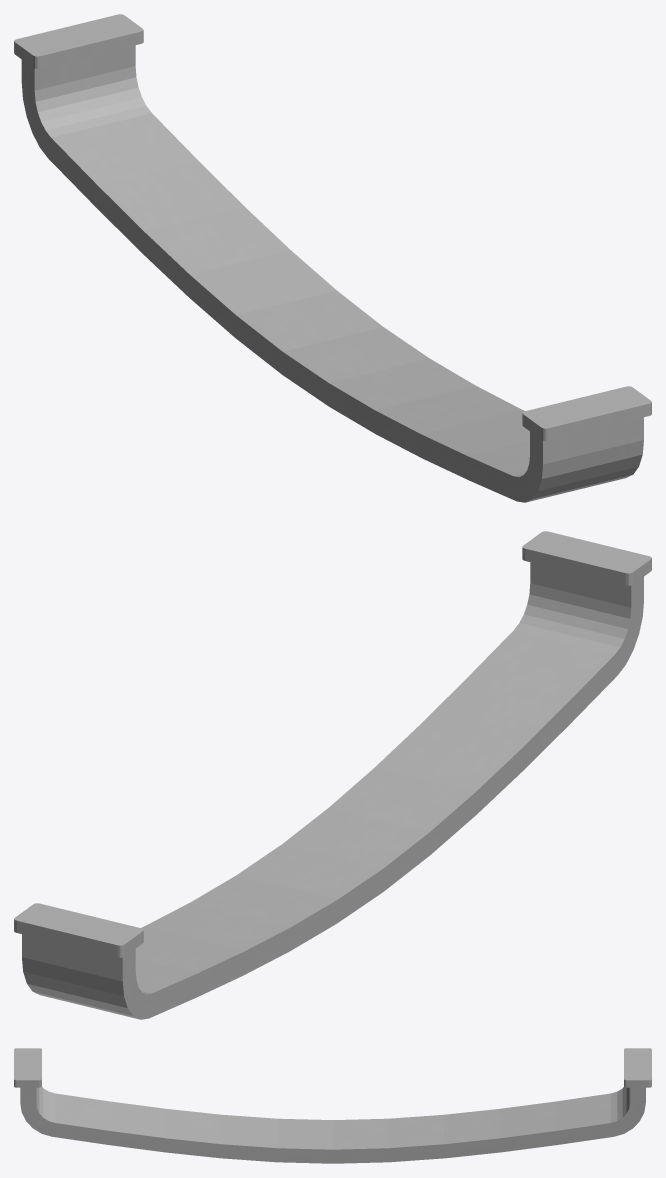
3 renders of one model, top to bottom at view 1: azimuth 30°, elevation 25°; view 2: azimuth 150°, elevation 25°; view 3: azimuth 270°, elevation 25°, orthographic. The views are drawn at different scales.
Visible parts, largest first — view 1: Red_wood.001_1; view 2: Red_wood.001_1; view 3: Red_wood.001_1.
Part boxes in pixels (bbox=[...]): Red_wood.001_1: bbox=[14, 14, 651, 502]; Red_wood.001_1: bbox=[14, 531, 651, 1019]; Red_wood.001_1: bbox=[14, 1048, 651, 1163].
Bounding box in the file's own units: 0.0391 × 0.0481 × 0.3284.
1 material, 1 textured.
